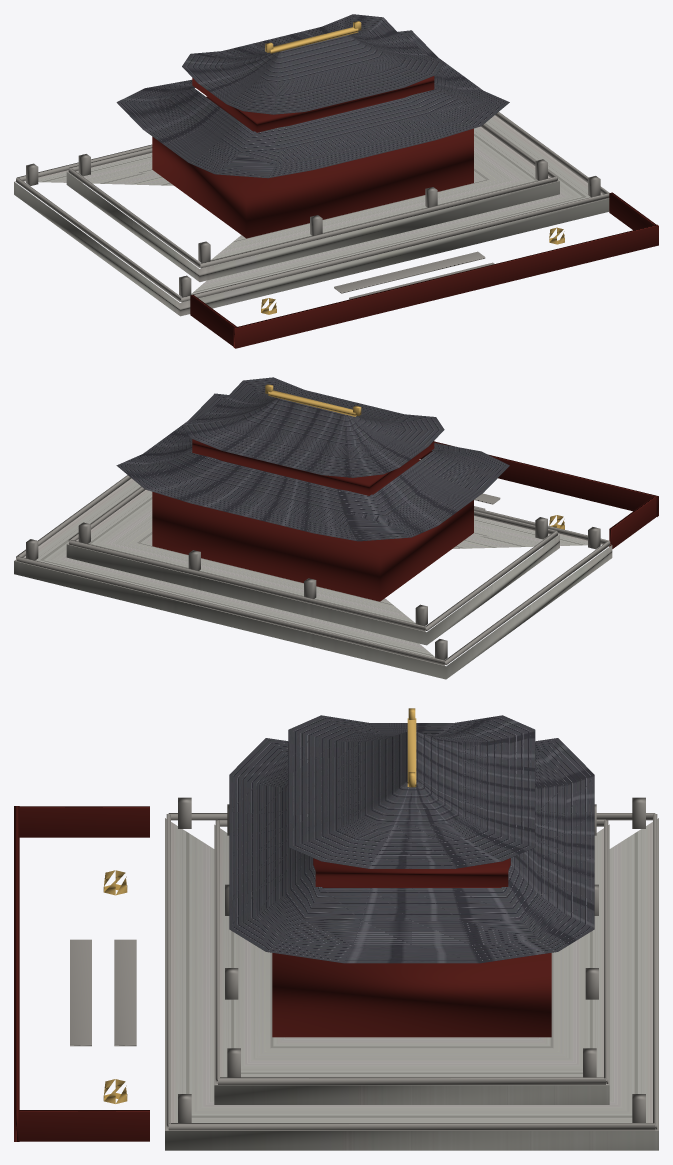
The picture shows the model from 3 angles, top to bottom: view 1: azimuth 30°, elevation 25°; view 2: azimuth 150°, elevation 25°; view 3: azimuth 270°, elevation 25°; orthographic projection. The views are drawn at different scales.
Parts seen in each view (by area): view 1: woldae_lod2, lower_roof_lod2, hall_mass_lod2, upper_roof_lod2, haenggak_lod2, balustrade_lod2, statues_pumgyeseok_lod2, gongpo_band_lod2, ridge_chimi_lod2; view 2: woldae_lod2, lower_roof_lod2, hall_mass_lod2, upper_roof_lod2, balustrade_lod2, haenggak_lod2, gongpo_band_lod2, statues_pumgyeseok_lod2, ridge_chimi_lod2; view 3: woldae_lod2, lower_roof_lod2, upper_roof_lod2, hall_mass_lod2, balustrade_lod2, haenggak_lod2, statues_pumgyeseok_lod2, gongpo_band_lod2, deumu_lod2, ridge_chimi_lod2.
Part boxes in pixels (x1,y1,x2,y2): woldae_lod2: (14, 115, 609, 316); lower_roof_lod2: (116, 30, 509, 178); hall_mass_lod2: (152, 95, 473, 238); upper_roof_lod2: (182, 14, 444, 114); haenggak_lod2: (190, 192, 658, 348); balustrade_lod2: (16, 112, 609, 302); statues_pumgyeseok_lod2: (26, 154, 600, 299); gongpo_band_lod2: (192, 76, 434, 132); ridge_chimi_lod2: (265, 21, 361, 53); woldae_lod2: (14, 478, 612, 679); lower_roof_lod2: (116, 393, 509, 541); hall_mass_lod2: (152, 459, 473, 601); upper_roof_lod2: (182, 377, 444, 477); balustrade_lod2: (16, 475, 610, 665); haenggak_lod2: (420, 441, 658, 548); gongpo_band_lod2: (192, 439, 434, 495); statues_pumgyeseok_lod2: (26, 493, 600, 660); ridge_chimi_lod2: (265, 384, 361, 416); woldae_lod2: (165, 818, 658, 1150); lower_roof_lod2: (229, 738, 594, 963); upper_roof_lod2: (288, 715, 535, 868); hall_mass_lod2: (272, 858, 551, 1037); balustrade_lod2: (166, 813, 657, 1130); haenggak_lod2: (14, 806, 149, 1141); statues_pumgyeseok_lod2: (70, 797, 645, 1122); gongpo_band_lod2: (315, 859, 508, 886); deumu_lod2: (103, 870, 127, 1103); ridge_chimi_lod2: (407, 708, 416, 787).
Size of the model in its own units: 60 by 22.5 by 52.22.
4 materials, 4 textured.
